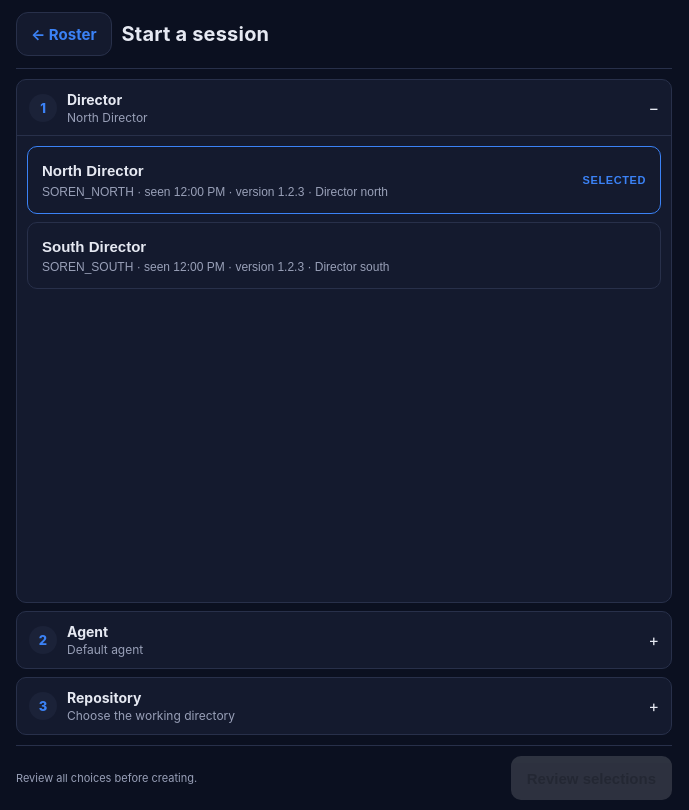
Test: mobile new session › caps broad search rendering, reports the full match count, and keeps every result reachable
Click the button with aria-label "Select Director North Director": coordinates (93, 170) [28, 147, 660, 212]
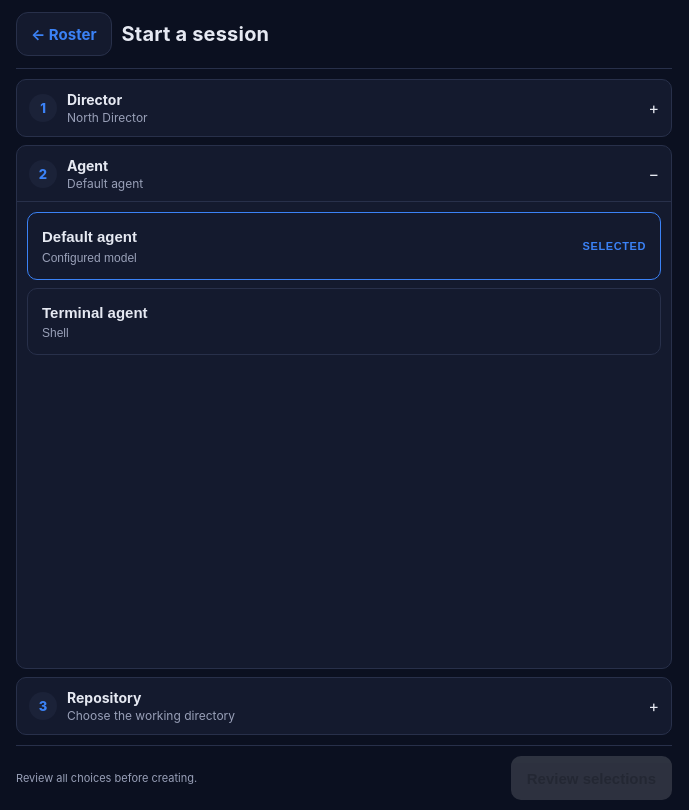
Click the button with aria-label "Select agent Terminal agent": coordinates (95, 312) [28, 288, 660, 354]
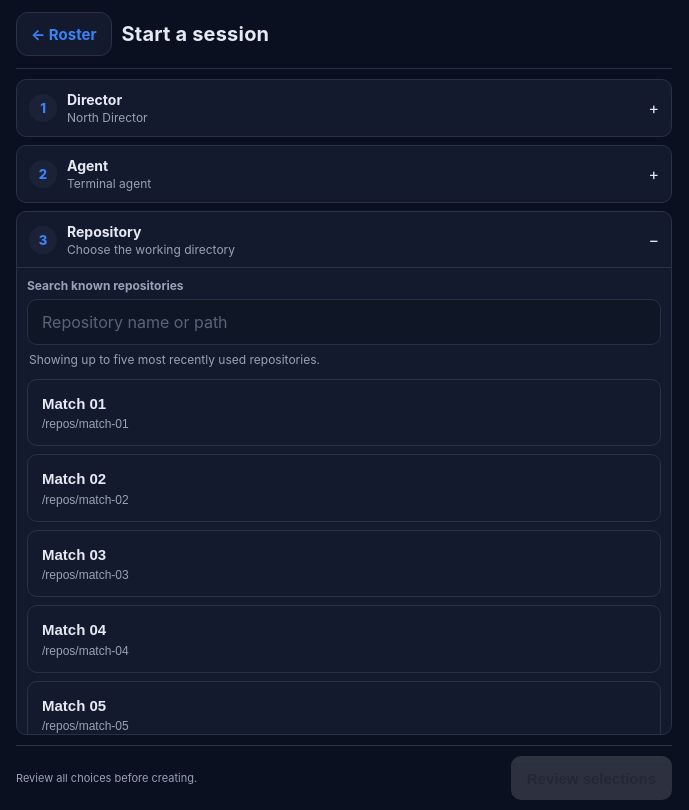
Check: the search field labelled "Search known repositories" is shown
In the search field labelled "Search known repositories": coordinates (344, 322) [27, 299, 661, 345], type "match"
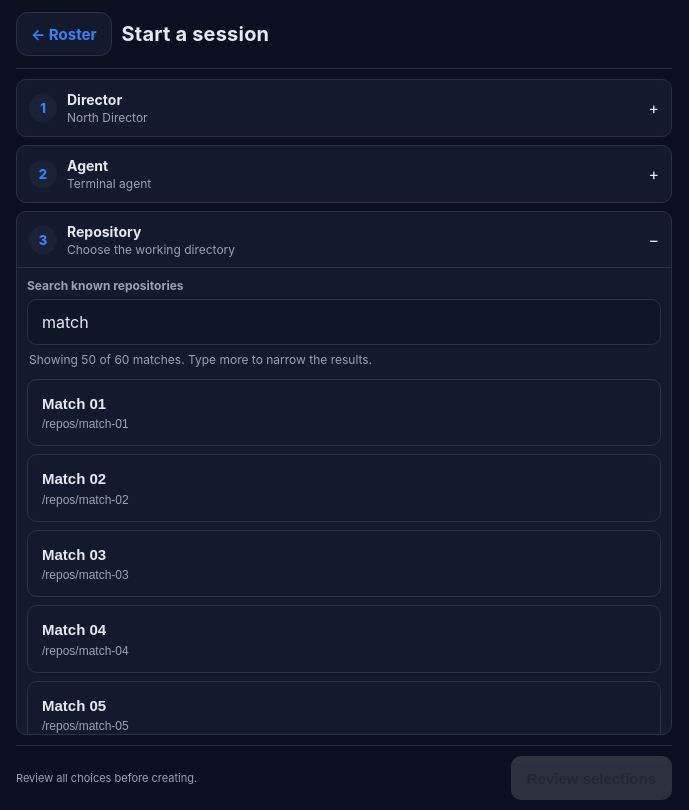
Check: the number of buttons named "Select repository Match" is 50
Check: the text "Showing 50 of 60 matches. Type more to narrow the results." is shown, box [29, 352, 372, 367]
Replace the text in the search field labelled "Search known repositories" with "match 60": coordinates (344, 322) [27, 299, 661, 345]
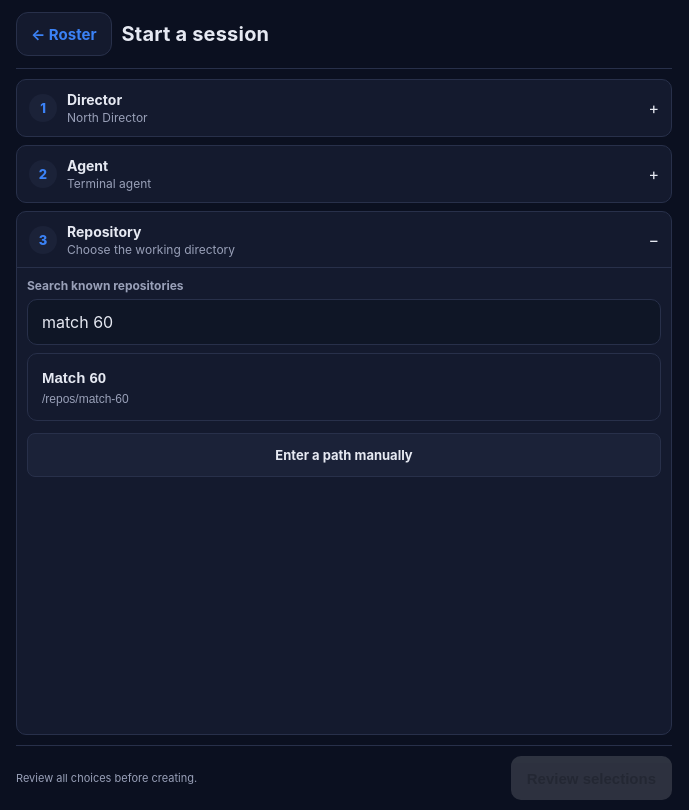
Check: the button with aria-label "Select repository Match 60" is shown, box [28, 354, 660, 420]
